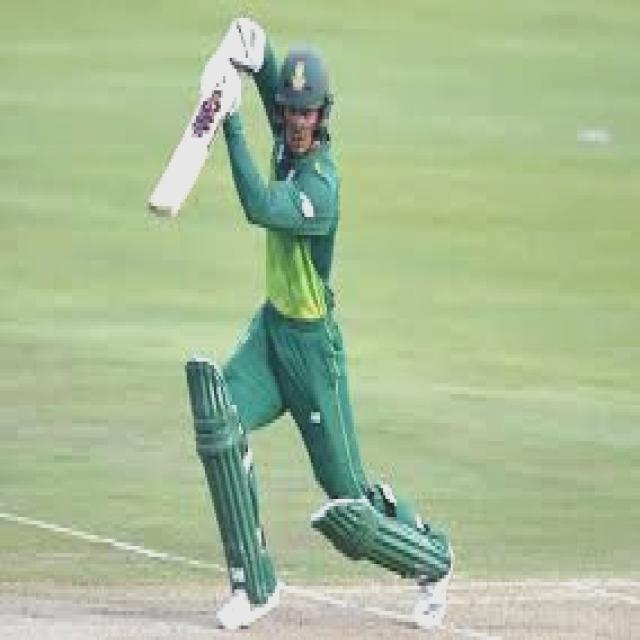toe: (148, 174, 186, 225)
